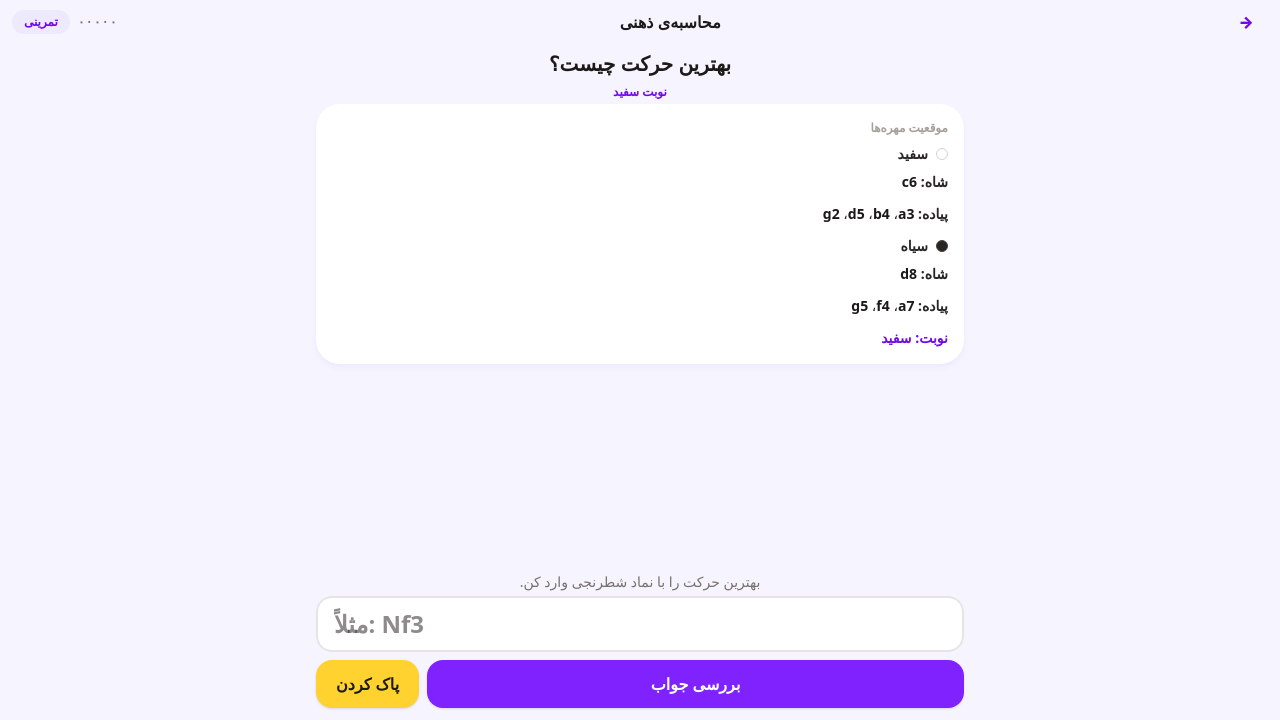
it: practice mode › submits the typed SAN and shows correct feedback with the SAN
Step 1. Type "Kd6" into the field named "بهترین حرکت" → (640,624), box [316,596,964,652]
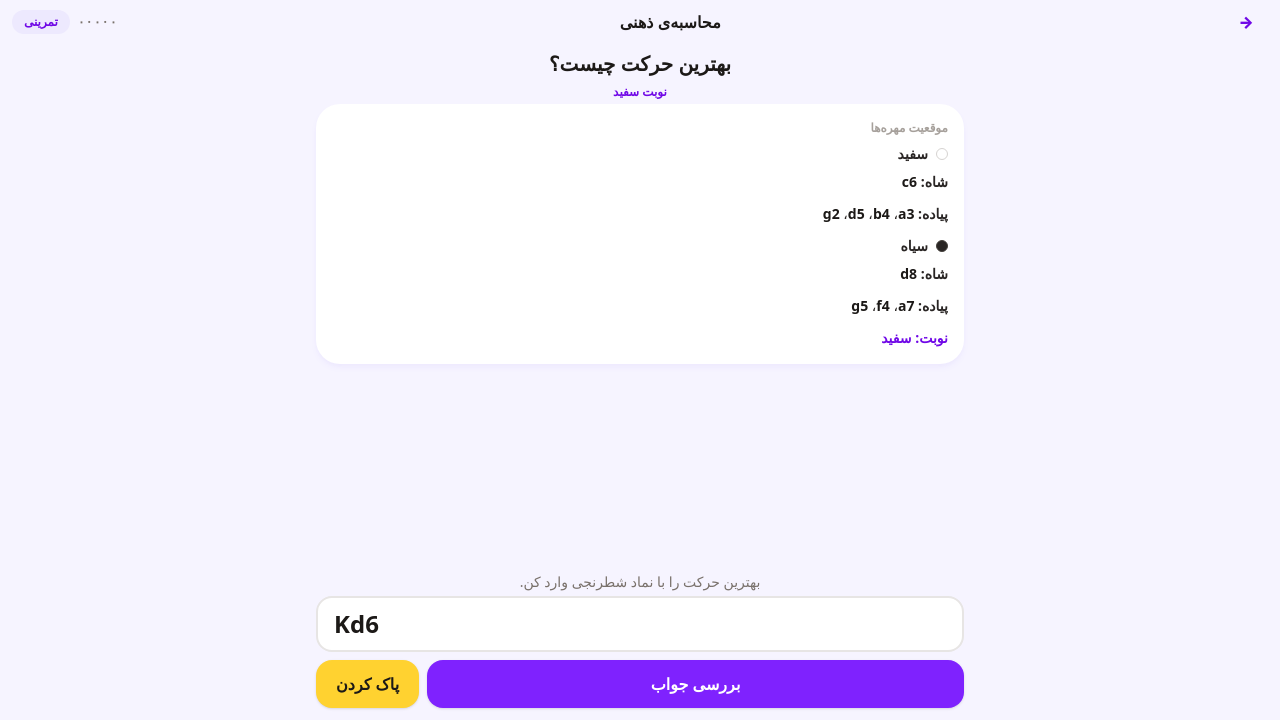
Step 2. Click the button "بررسی جواب" → (696,684), box [427,660,964,708]
Wait 50 ms
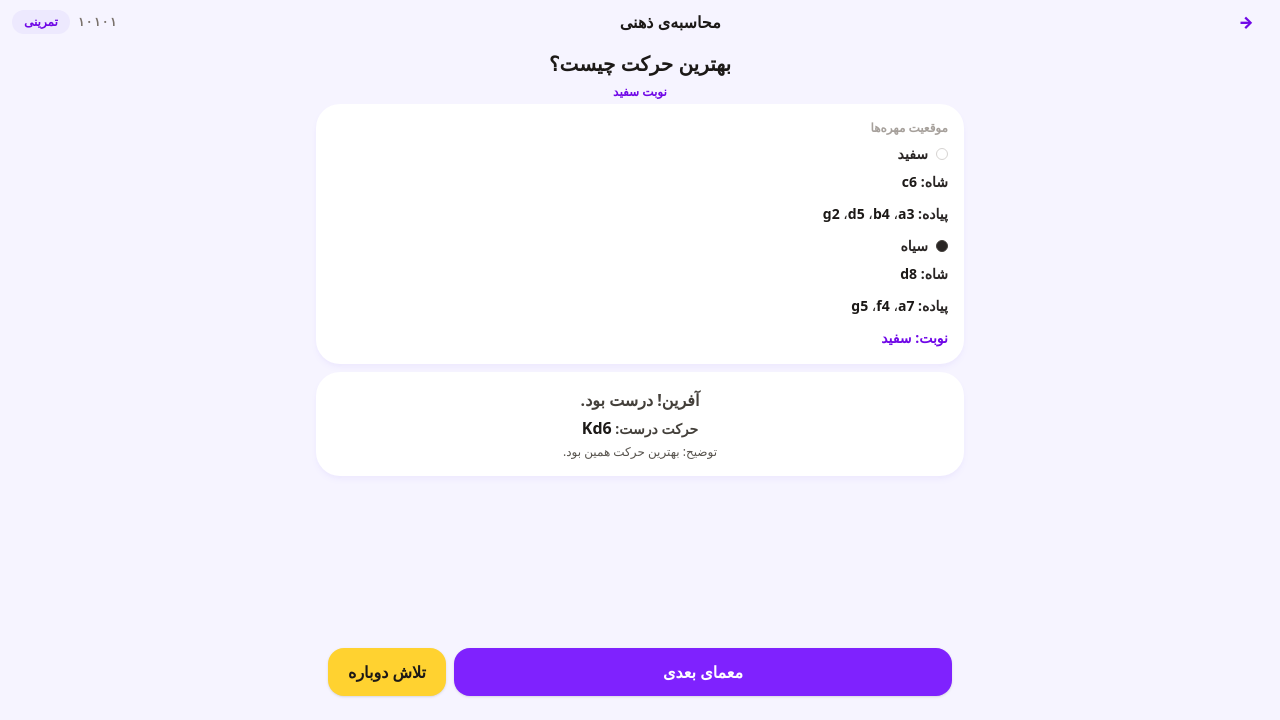
Now the element with test id "feedback" shows "Kd6", box [582,417,612,439]
